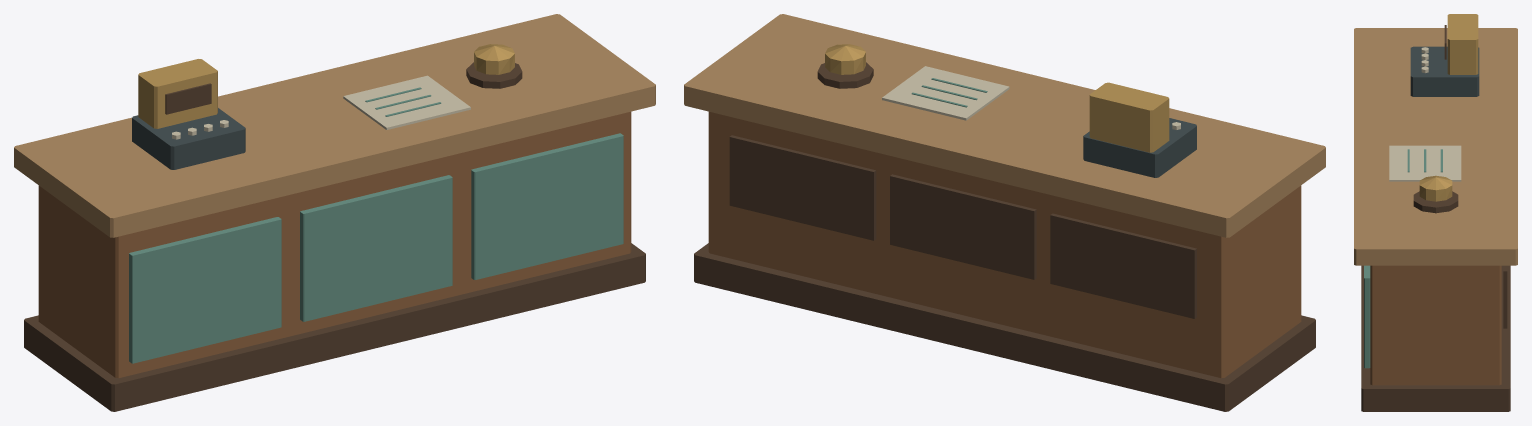
File: counter_shop.glb
3 views of the same model, side by side, from view 1: azimuth 30°, elevation 25°; view 2: azimuth 150°, elevation 25°; view 3: azimuth 270°, elevation 25° (orthographic). The views are drawn at different scales.
Parts seen in each view (by area): view 1: geometry; view 2: geometry; view 3: geometry.
Boxes of the visible parts, bbox=[...] form: geometry: bbox=[14, 14, 655, 411]; geometry: bbox=[684, 14, 1325, 411]; geometry: bbox=[1354, 14, 1517, 411].
Size of the model in its own units: 2.91 by 1.35 by 0.91.
